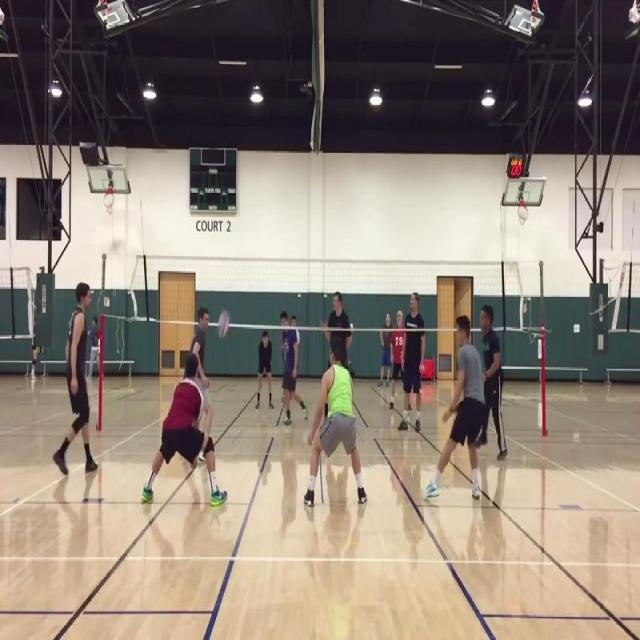volleyball: (218, 313, 230, 337)
